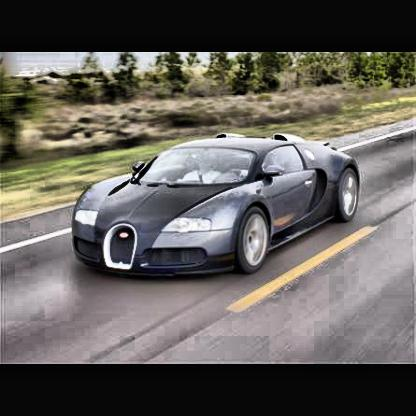Bugatti Veyron 16-4 Coupe 2009: (72, 133, 363, 279)
